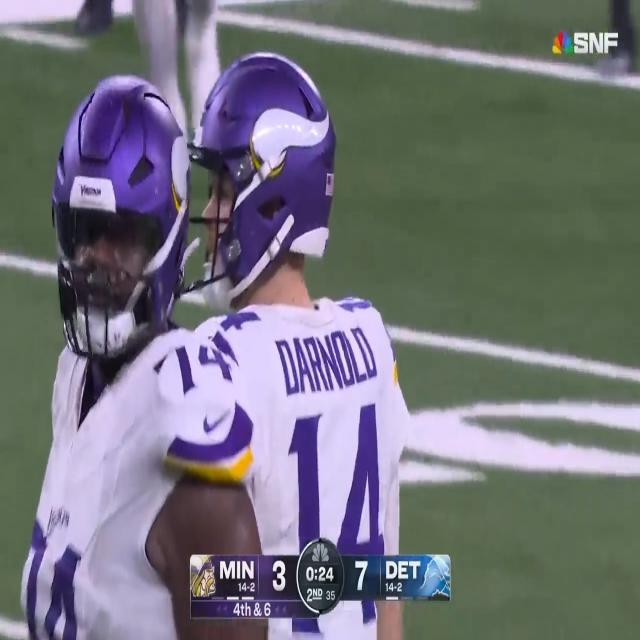Player: (36, 86, 267, 640), (200, 26, 406, 544)
